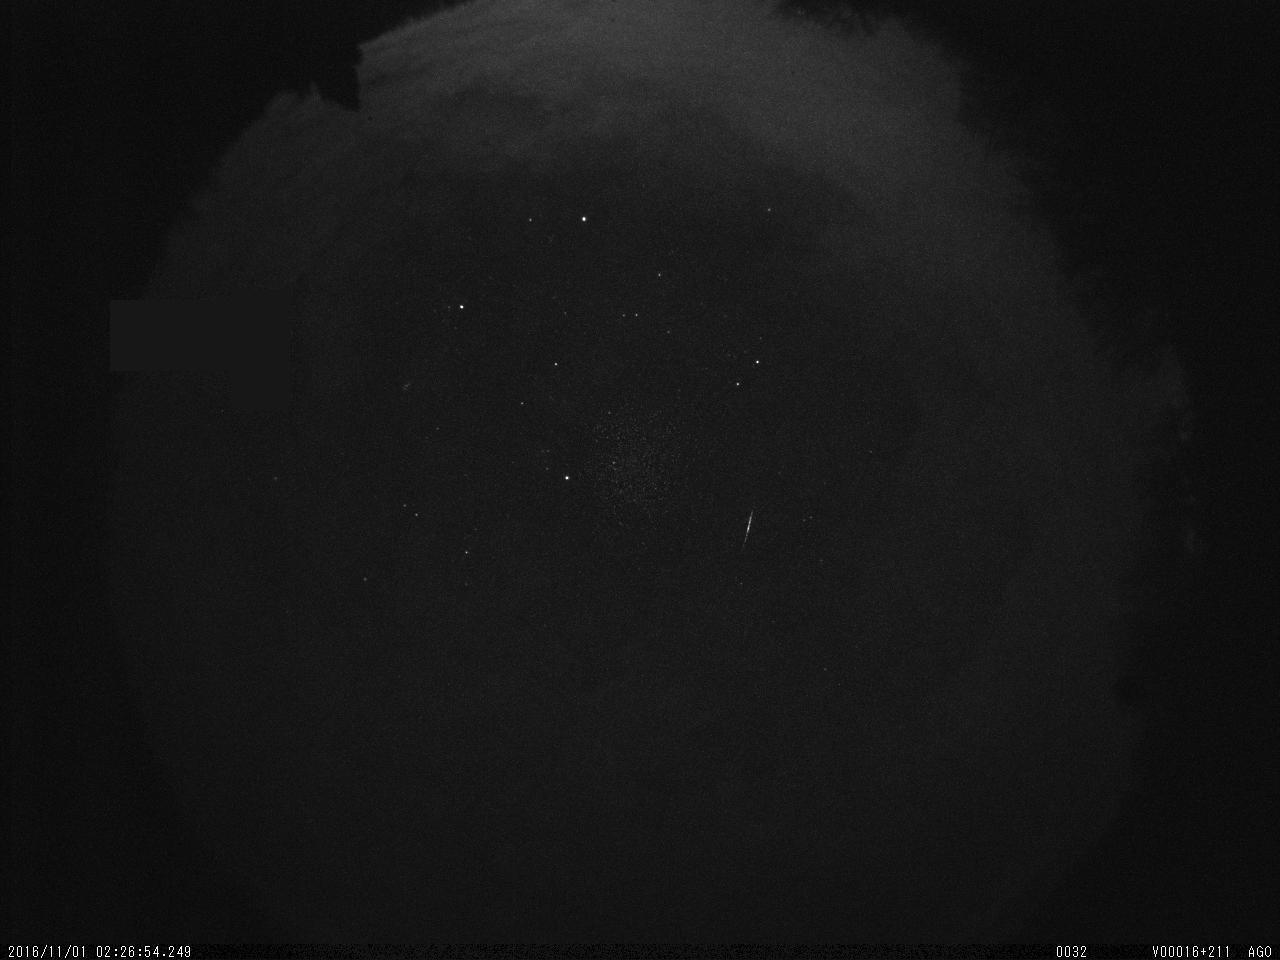meteor: (729, 502, 774, 566)
